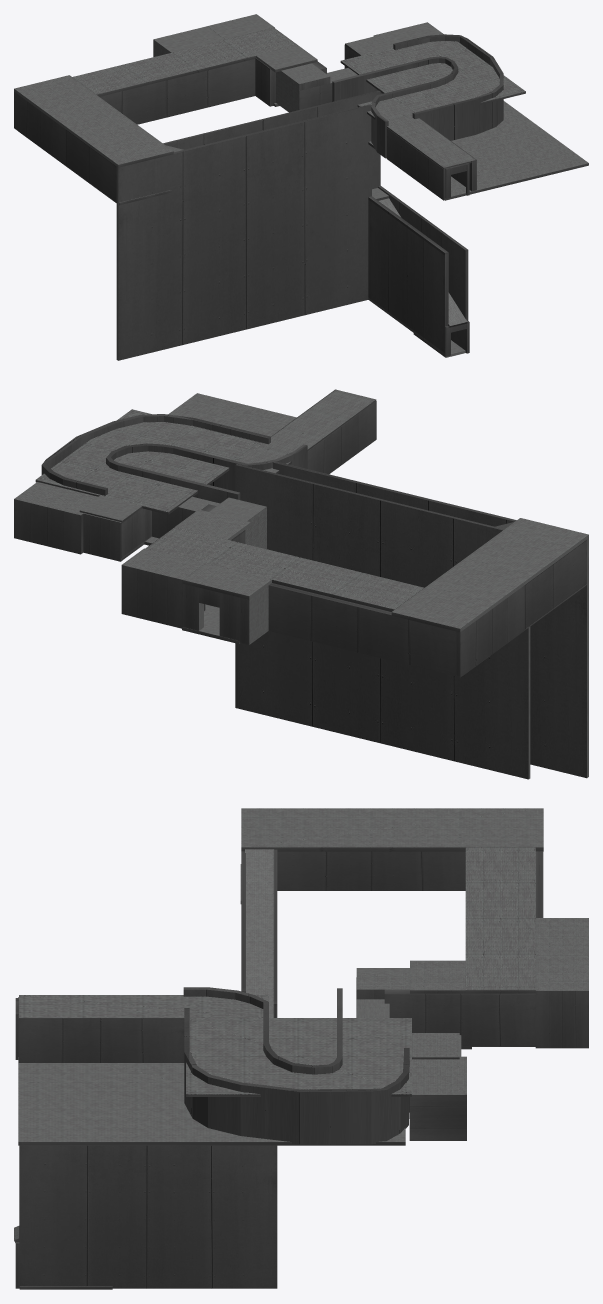
The model's file is BasementMap2.fbx.
3 views of the same model, one above another, from view 1: azimuth 30°, elevation 25°; view 2: azimuth 150°, elevation 25°; view 3: azimuth 270°, elevation 25° (orthographic). The views are drawn at different scales.
Parts seen in each view (by area): view 1: Cube__323__1, Cube__320__1, Cube__344__1, Cube__335__1, Cube__314__1, Cube__339__1, Cube__338__1, Cube__333__1, Cube_001, Cube__322__1, Cube_5, Cube__343__1 (+13 smaller); view 2: Cube__322__1, Cube__323__1, Cube__344__1, Cube__335__1, Cube__340__1, Cube__339__1, Cube__333__1, Cube__364_, Cube__345__1, Cube__343__1, Cube_5, Cube_001 (+14 smaller); view 3: Cube__321__1, Cube__314__1, Cube__344__1, Cube__335__1, Cube_001, Cube__339__1, Cube__337__1, Cube__342__1, Cube__370_, Cube__343__1, Cube__364_, Cube__345__1 (+8 smaller).
Part boxes in pixels (x1,y1,x2,y2): Cube__323__1: (116, 104, 371, 360); Cube__320__1: (368, 196, 448, 355); Cube__344__1: (340, 41, 525, 113); Cube__335__1: (14, 75, 173, 167); Cube__314__1: (368, 101, 588, 200); Cube__339__1: (72, 28, 297, 96); Cube__338__1: (100, 59, 255, 124); Cube__333__1: (14, 92, 116, 202); Cube_001: (393, 34, 503, 140); Cube__322__1: (163, 90, 380, 189); Cube_5: (332, 56, 458, 158); Cube__343__1: (357, 98, 475, 168); Cube__322__1: (235, 464, 530, 779); Cube__323__1: (273, 461, 588, 778); Cube__344__1: (35, 409, 262, 514); Cube__335__1: (391, 518, 588, 632); Cube__340__1: (268, 583, 455, 676); Cube__339__1: (145, 527, 424, 611); Cube__333__1: (455, 540, 586, 677); Cube__364_: (121, 548, 205, 628); Cube__345__1: (14, 482, 97, 554); Cube__343__1: (238, 389, 376, 473); Cube_5: (106, 443, 307, 503); Cube_001: (41, 414, 270, 495); Cube__321__1: (19, 1145, 277, 1288); Cube__314__1: (18, 1057, 405, 1145); Cube__344__1: (186, 1018, 411, 1096); Cube__335__1: (241, 808, 543, 851); Cube_001: (184, 1008, 409, 1144); Cube__339__1: (465, 847, 535, 993); Cube__337__1: (277, 851, 465, 890); Cube__342__1: (18, 1015, 184, 1062); Cube__370_: (384, 989, 535, 1046); Cube__343__1: (19, 995, 268, 1018); Cube__364_: (535, 956, 588, 1048); Cube__345__1: (409, 1056, 466, 1140).
Bounding box in the file's own units: 11323 × 5435 × 9843.
